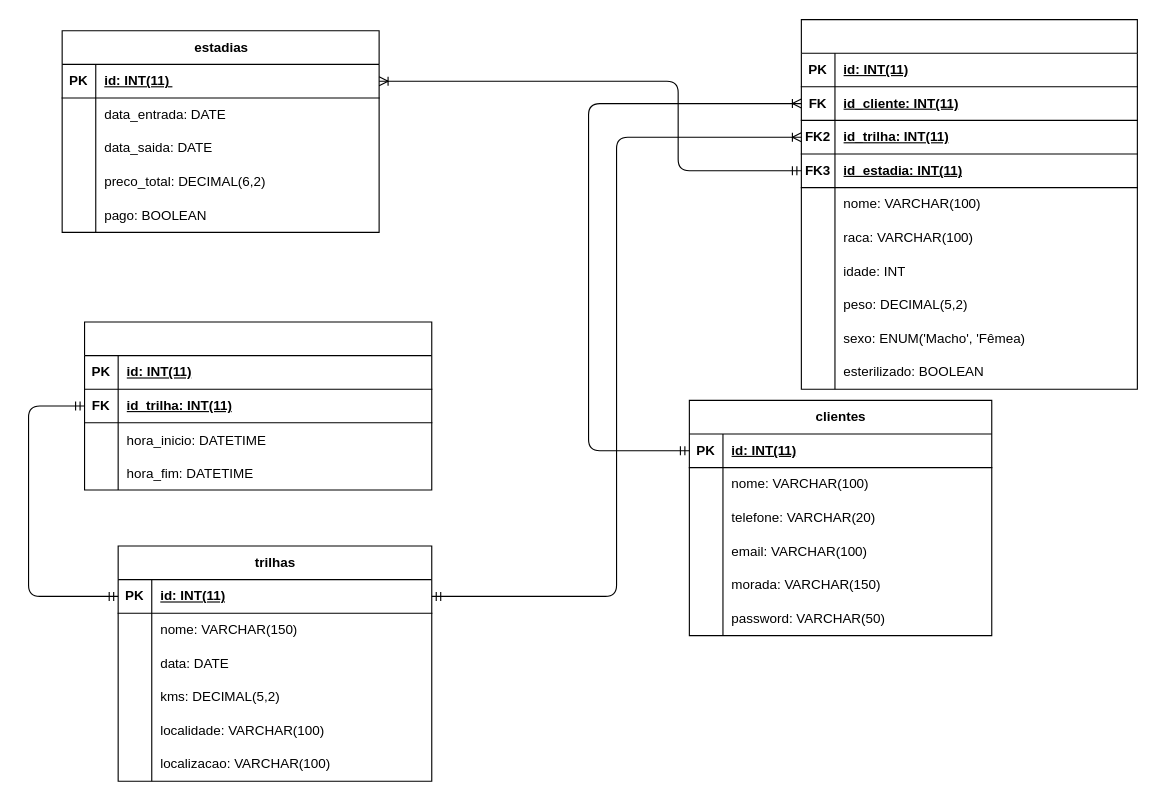
The diagram is 1157 pixels wide and 801 high, and some of its shapes have lost their labels. Each missing label, with the box of its shape:
caes: (800, 18, 1137, 389)
cao_trilhas: (83, 321, 432, 490)
